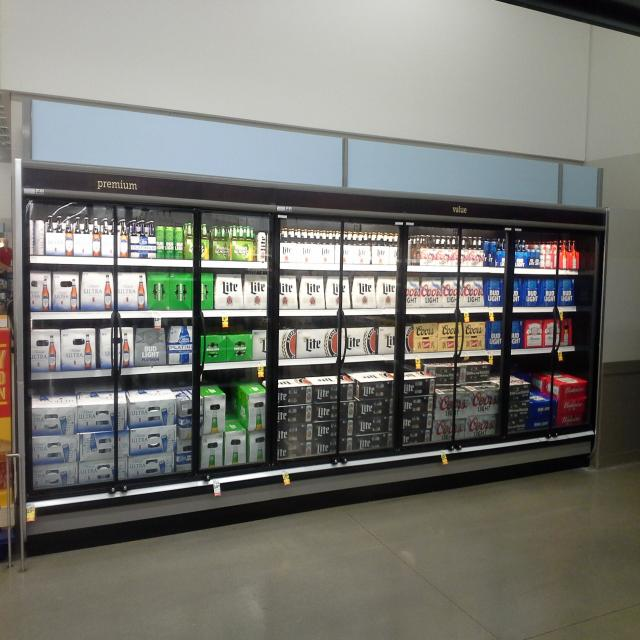empty_space: (0, 0, 24, 16), (0, 0, 23, 16), (0, 0, 22, 16), (0, 0, 25, 14), (0, 0, 23, 15), (0, 0, 34, 10), (0, 0, 20, 16), (0, 0, 32, 10), (0, 0, 28, 11), (0, 0, 20, 15), (0, 0, 30, 10), (0, 0, 26, 11), (0, 0, 21, 13), (0, 0, 17, 16), (0, 0, 18, 15), (0, 0, 17, 15), (0, 0, 23, 11), (0, 0, 16, 15), (0, 0, 15, 16), (0, 0, 17, 14), (0, 0, 15, 15), (0, 0, 14, 16), (0, 0, 17, 13), (0, 0, 21, 10), (0, 0, 14, 15), (0, 0, 13, 16), (0, 0, 16, 13), (0, 0, 13, 15), (0, 0, 19, 10), (0, 0, 21, 9), (0, 0, 13, 14), (0, 0, 14, 13), (0, 0, 12, 15), (0, 0, 16, 11), (0, 0, 17, 10), (0, 0, 12, 14), (0, 0, 14, 12), (0, 0, 28, 6), (0, 0, 15, 11), (0, 0, 23, 7), (0, 0, 20, 8), (0, 0, 13, 12), (0, 0, 12, 13), (0, 0, 26, 6), (0, 0, 11, 14), (0, 0, 17, 9), (0, 0, 13, 11), (0, 0, 11, 13), (0, 0, 10, 14), (0, 0, 23, 6), (0, 0, 19, 7), (0, 0, 11, 12), (0, 0, 10, 13), (0, 0, 21, 6), (0, 0, 25, 5), (0, 0, 11, 11), (0, 0, 12, 10), (0, 0, 24, 5), (0, 0, 19, 6), (0, 0, 10, 11), (0, 0, 9, 12), (0, 0, 18, 6), (0, 0, 15, 7), (0, 0, 10, 10), (0, 0, 6, 16), (0, 0, 8, 12), (0, 0, 6, 15), (0, 0, 8, 11), (0, 0, 22, 4), (0, 0, 17, 5), (0, 0, 6, 13), (0, 0, 5, 15), (0, 0, 6, 12), (0, 0, 17, 4), (0, 0, 6, 11), (0, 0, 16, 4), (0, 0, 12, 5), (0, 0, 8, 7), (0, 0, 11, 5)
